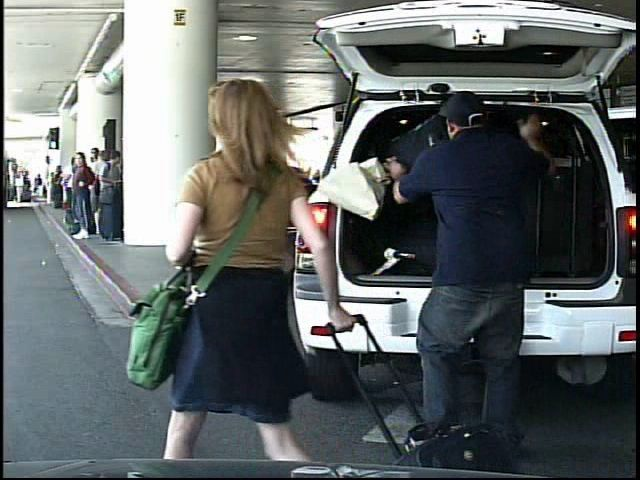person: (166, 66, 342, 464), (382, 78, 548, 434), (15, 174, 26, 204), (35, 173, 46, 200)
